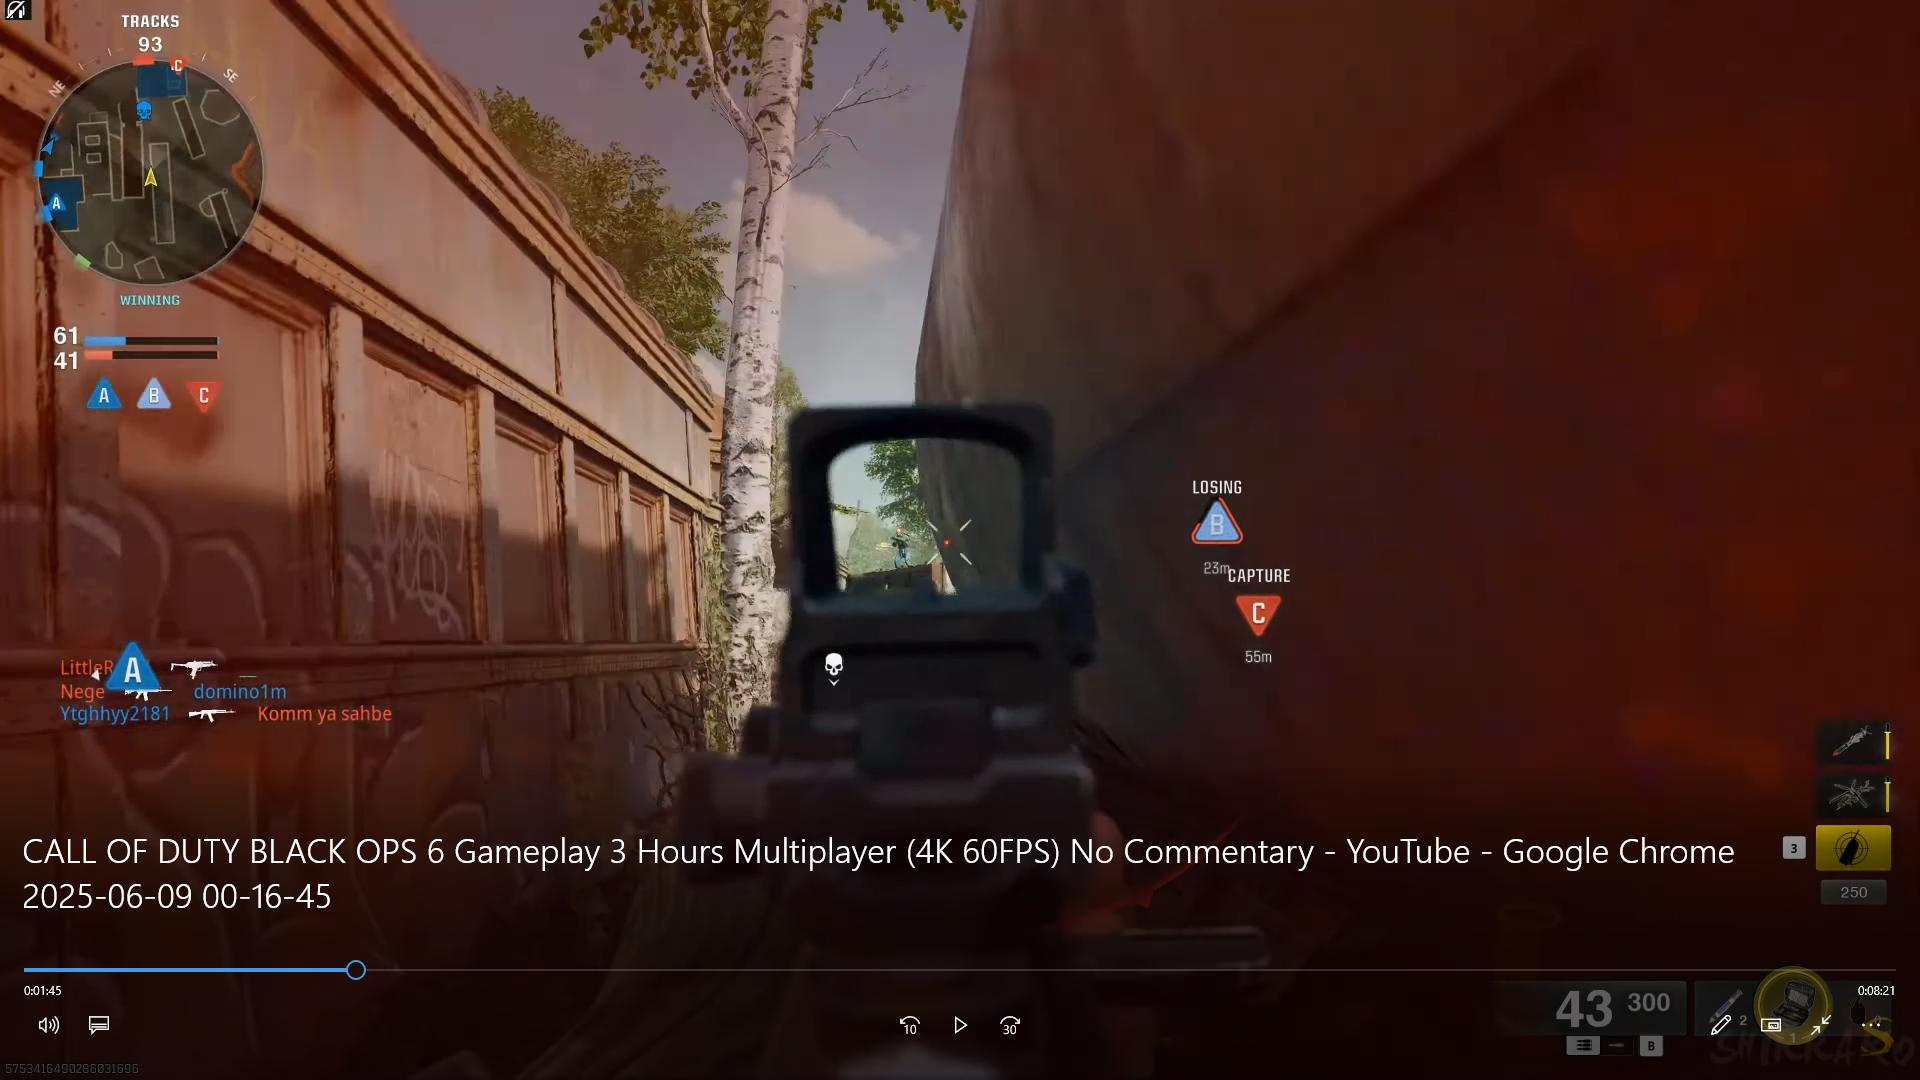Enemy: (887, 520, 913, 568)
